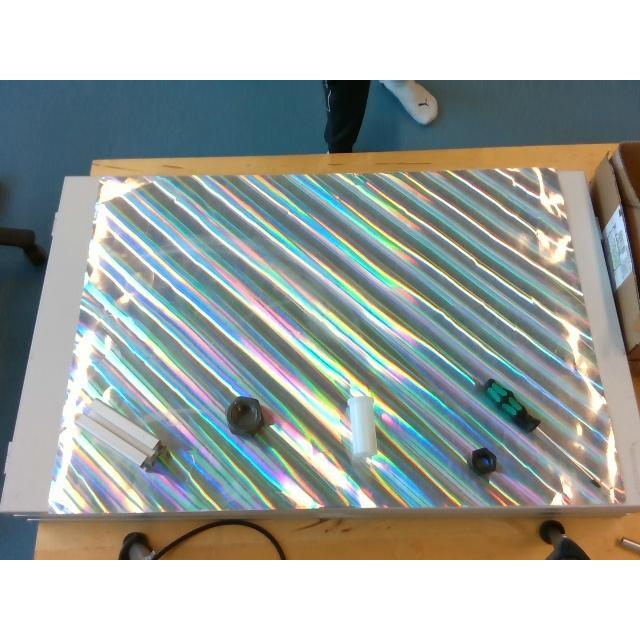M20: (468, 448, 498, 476)
M30: (224, 394, 264, 438)
S40_40_G: (76, 398, 166, 474)
Screwdriver: (485, 378, 603, 488)
Spacer: (346, 396, 378, 458)
